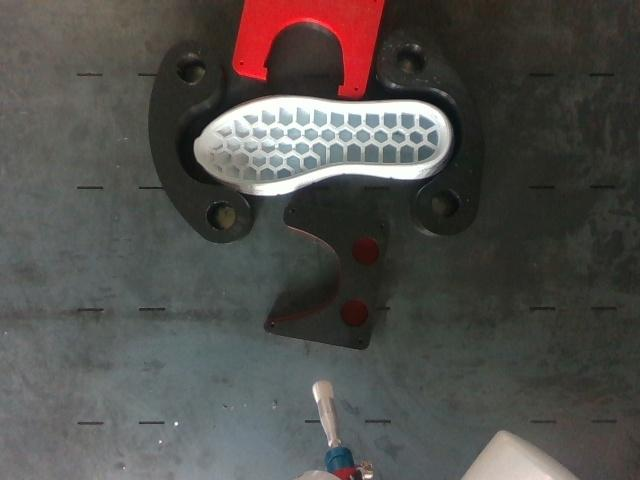shoes: (195, 99, 449, 183)
